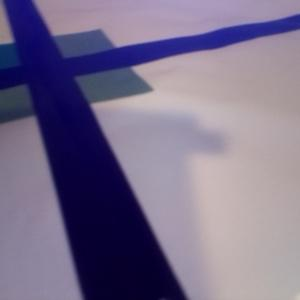bottom_left: (1, 70, 74, 122)
bottom_right: (30, 58, 152, 103)
top_left: (1, 43, 56, 83)
top_right: (21, 30, 115, 70)
